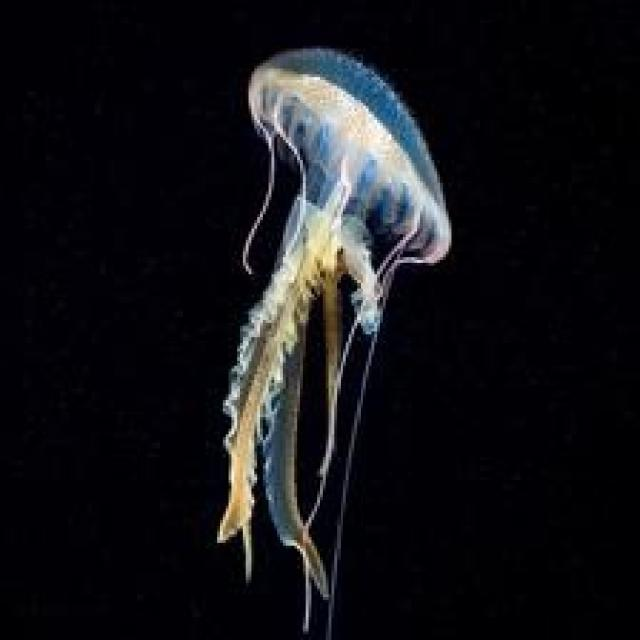Jellyfish: (212, 43, 452, 637)
